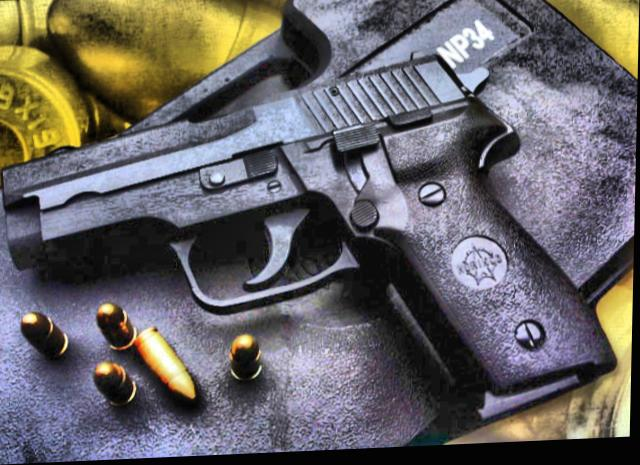pistol: (0, 44, 622, 434)
